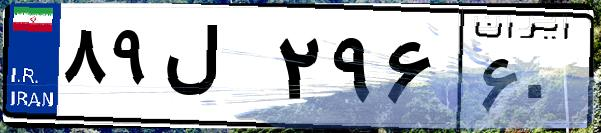0: (525, 38, 570, 115)
2: (270, 28, 330, 110)
6: (385, 28, 445, 110), (475, 38, 525, 113)
8: (57, 26, 110, 100)
9: (330, 28, 385, 110), (110, 28, 158, 98)
ل: (158, 20, 270, 120)
